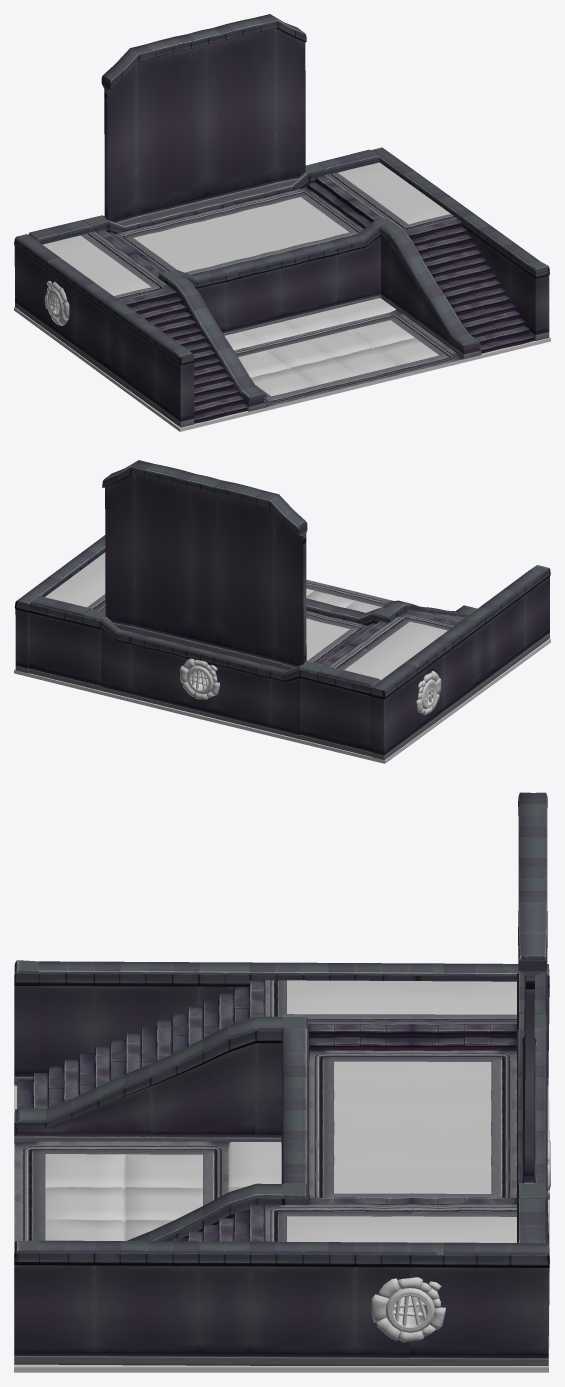
File: floor.fbx
3 views of the same model, one above another, from view 1: azimuth 30°, elevation 25°; view 2: azimuth 150°, elevation 25°; view 3: azimuth 270°, elevation 25° (orthographic). The views are drawn at different scales.
Visible parts, largest first — view 1: Walls, TrimGeo, Floor, Plane027, floor; view 2: Walls, TrimGeo, Floor, Plane027, floor; view 3: Walls, TrimGeo, Floor, Plane027, floor.
Part boxes in pixels (left/top/right/bottom): Walls: left=14, top=22, right=549, bottom=427; TrimGeo: left=15, top=14, right=549, bottom=423; Floor: left=43, top=162, right=450, bottom=396; Plane027: left=14, top=307, right=550, bottom=431; floor: left=44, top=280, right=69, bottom=325; Walls: left=14, top=468, right=550, bottom=760; TrimGeo: left=17, top=460, right=549, bottom=691; Floor: left=45, top=552, right=447, bottom=679; Plane027: left=14, top=581, right=550, bottom=763; floor: left=179, top=658, right=441, bottom=714; Walls: left=14, top=797, right=549, bottom=1365; TrimGeo: left=14, top=792, right=548, bottom=1255; Floor: left=45, top=980, right=516, bottom=1242; Plane027: left=14, top=1076, right=549, bottom=1372; floor: left=371, top=1127, right=550, bottom=1342.
Size of the model in its own units: 3284 by 1971 by 2526.
